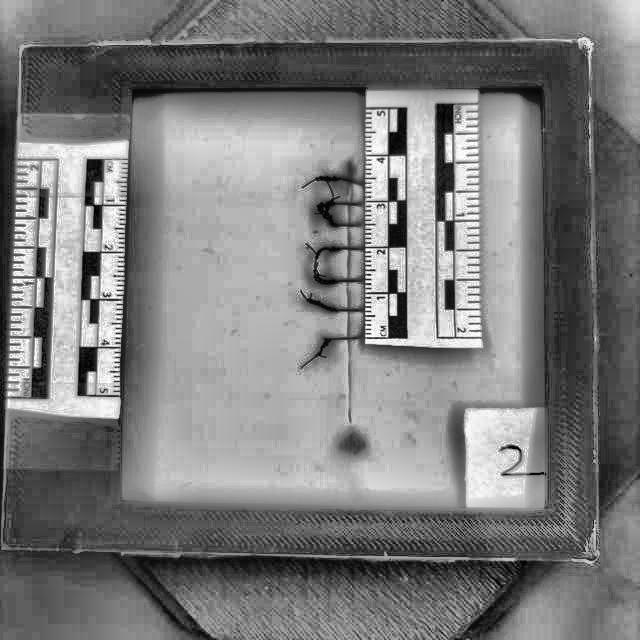incision_line: (344, 162, 359, 447)
scale_marker: (365, 155, 392, 199)
suture_d: (344, 308, 361, 336), (345, 250, 360, 279), (345, 282, 359, 307), (345, 177, 357, 205), (345, 205, 358, 225), (346, 227, 358, 246)
suture_l: (315, 301, 353, 314), (323, 276, 354, 287), (322, 173, 350, 185), (324, 332, 351, 344), (329, 215, 351, 229), (330, 244, 352, 254), (324, 200, 350, 208)
suture_r: (353, 302, 375, 316), (350, 218, 369, 232), (355, 243, 375, 256), (352, 173, 368, 187), (353, 198, 369, 210), (352, 333, 376, 341), (354, 277, 371, 284)
